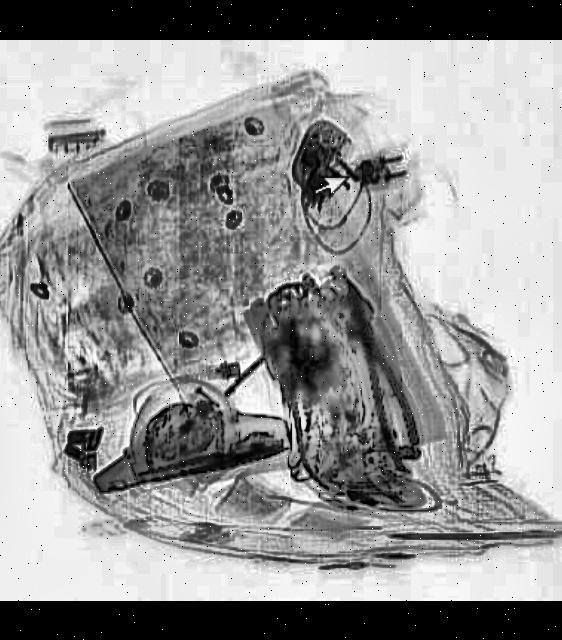Pliers: (336, 276, 434, 472)
